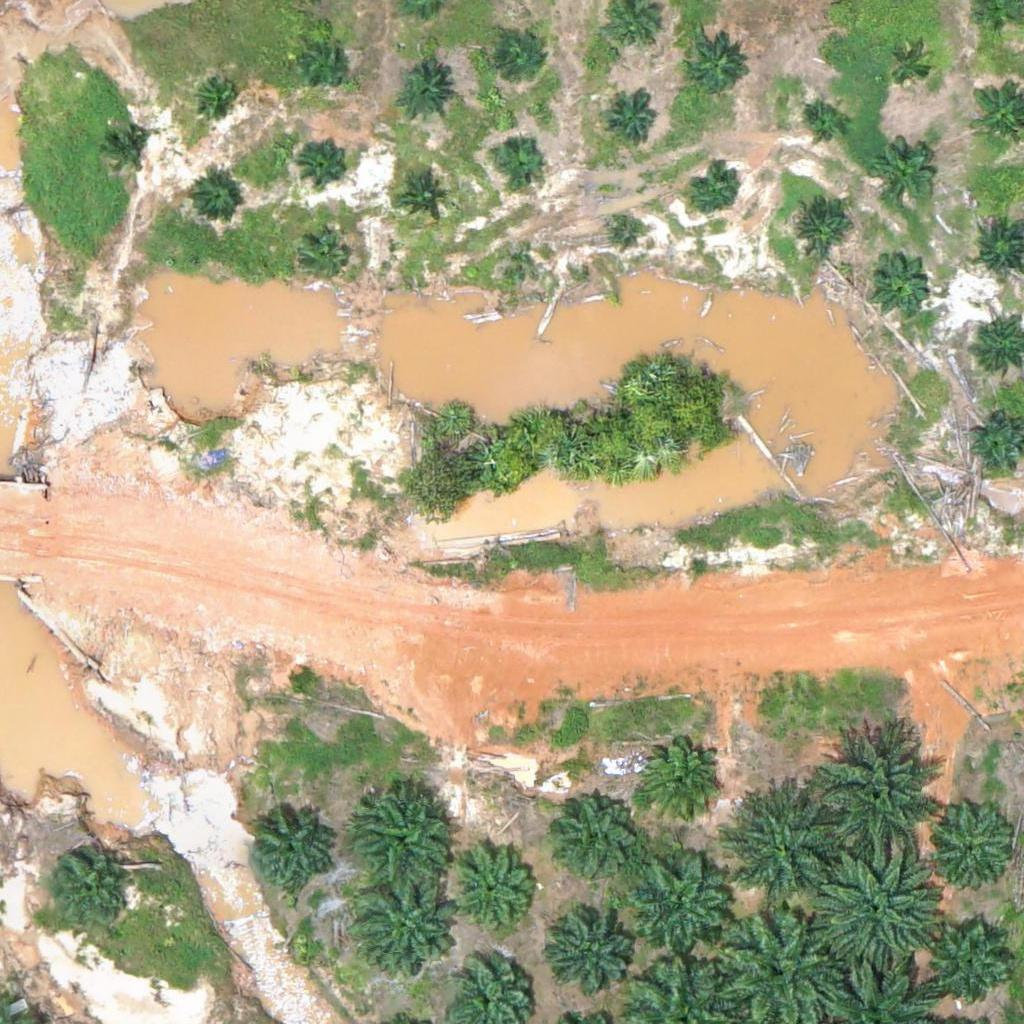Kelapa_Sawit: (817, 725, 942, 851), (812, 846, 937, 972), (726, 781, 851, 907), (633, 853, 733, 954), (356, 877, 456, 978), (352, 784, 452, 885), (920, 794, 1020, 894), (555, 794, 643, 882), (448, 849, 536, 937), (247, 809, 335, 897), (46, 850, 133, 938), (925, 923, 1012, 1011), (635, 737, 722, 825), (549, 913, 636, 1001), (869, 141, 932, 204), (394, 64, 457, 127), (865, 250, 928, 313), (685, 30, 747, 93), (788, 195, 850, 258), (492, 131, 542, 182), (496, 32, 546, 83), (299, 37, 349, 88), (299, 135, 349, 186), (399, 174, 449, 225), (607, 97, 657, 147), (688, 164, 738, 214), (190, 175, 240, 225), (884, 44, 934, 94), (799, 101, 849, 151), (301, 236, 351, 286), (193, 71, 243, 121), (102, 127, 152, 177), (613, 217, 638, 242), (518, 251, 543, 276)
